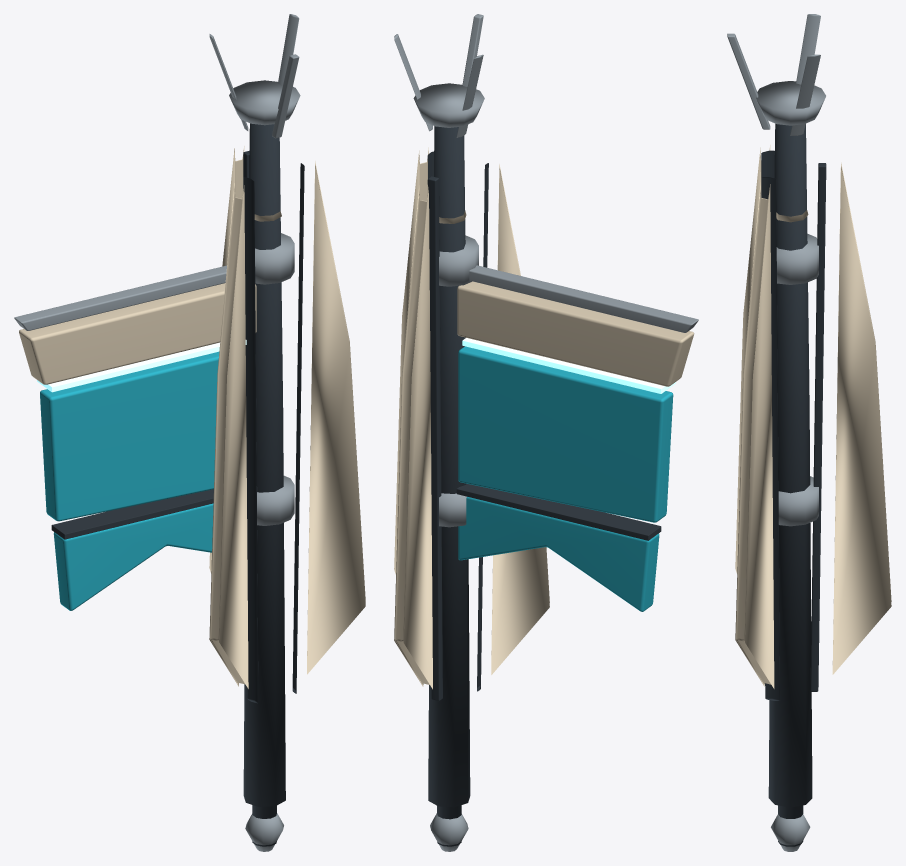
Rendered from Objectives.fbx.
3 views of the same model, side by side, from view 1: azimuth 30°, elevation 25°; view 2: azimuth 150°, elevation 25°; view 3: azimuth 270°, elevation 25° (orthographic).
Parts seen in each view (by area): view 1: ControlRelay_Mount, FactionStandard_Mount; view 2: FactionStandard_Mount, ControlRelay_Mount; view 3: ControlRelay_Mount, FactionStandard_Mount.
Part boxes in pixels (x1,y1,x2,y2): ControlRelay_Mount: (209, 14, 365, 806); FactionStandard_Mount: (14, 211, 283, 851); FactionStandard_Mount: (430, 210, 698, 851); ControlRelay_Mount: (394, 14, 549, 807); ControlRelay_Mount: (727, 14, 891, 807); FactionStandard_Mount: (771, 210, 810, 851).
Size of the model in its own units: 0.9455 by 2.26 by 0.4131.
